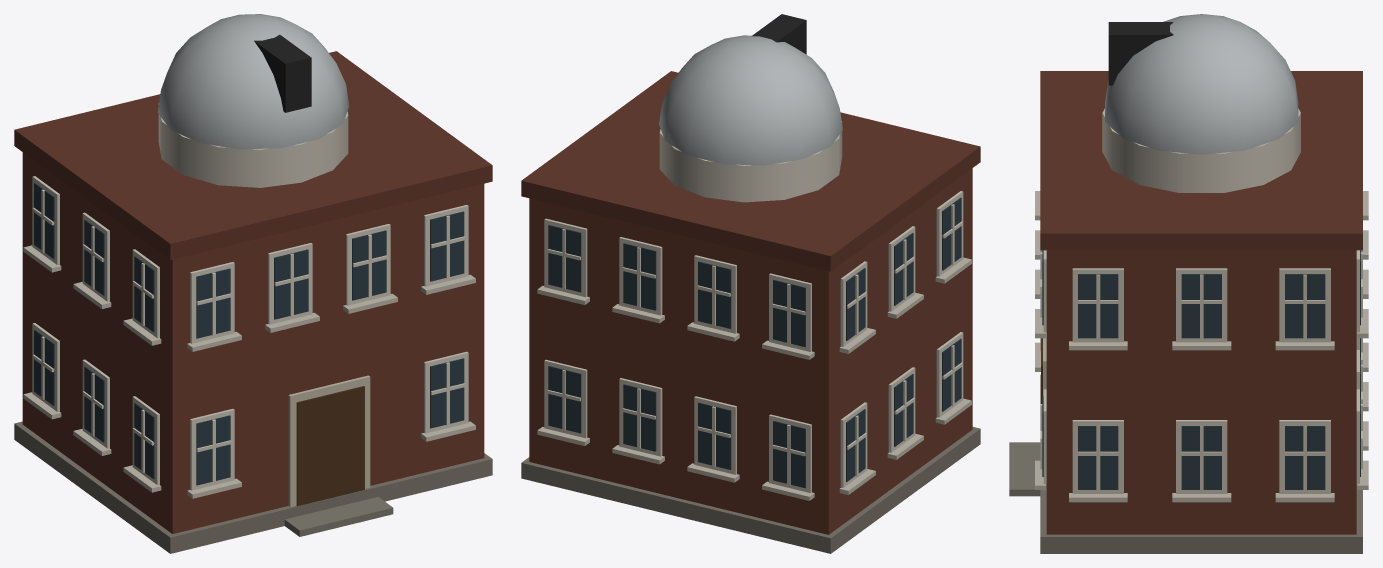
The model's file is procedural_observatory@5.glb.
3 renders of one model, left to right at view 1: azimuth 30°, elevation 25°; view 2: azimuth 150°, elevation 25°; view 3: azimuth 270°, elevation 25°, orthographic. The views are drawn at different scales.
Visible parts, largest first — view 1: part_0; view 2: part_0; view 3: part_0.
Part boxes in pixels (x1=…): part_0: x1=14, y1=14, x2=492, y2=553; part_0: x1=521, y1=14, x2=980, y2=553; part_0: x1=1009, y1=14, x2=1368, y2=553.
Bounding box in the file's own units: 6.38 × 8 × 5.79.
